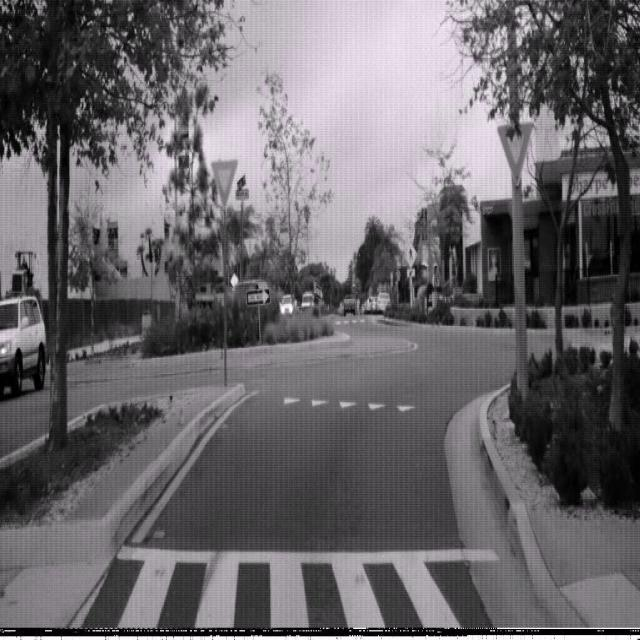pedestrianCrossing: (403, 240, 418, 268)
yield: (496, 120, 534, 188), (209, 157, 239, 207)
